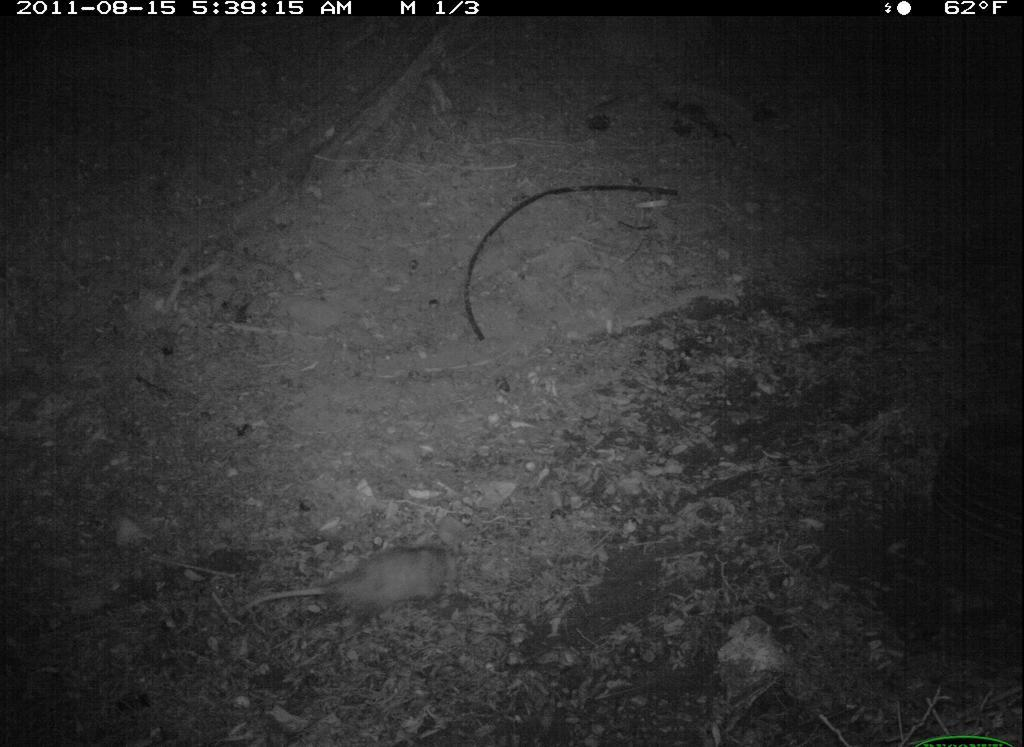opossum: (231, 539, 472, 635)
